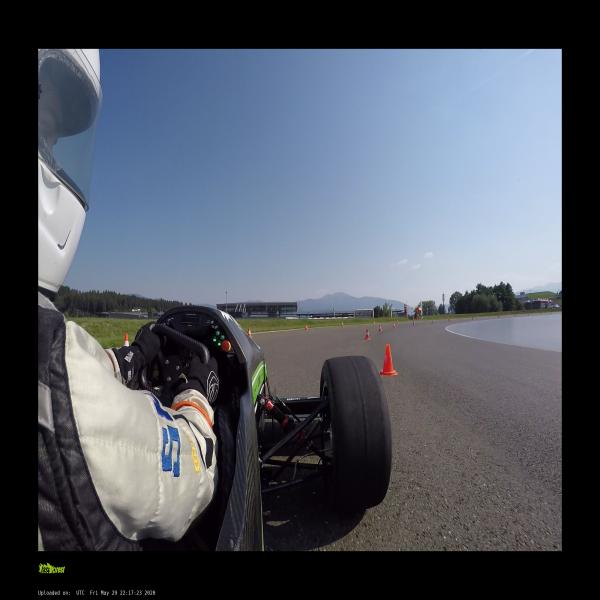orange_cone: (380, 344, 396, 375), (123, 334, 129, 346), (365, 328, 370, 340), (248, 328, 251, 338), (379, 324, 382, 331), (305, 324, 308, 330), (393, 322, 395, 327), (373, 321, 375, 324), (397, 320, 399, 323), (432, 320, 434, 323), (342, 322, 343, 326), (413, 320, 414, 324), (448, 318, 450, 320)
